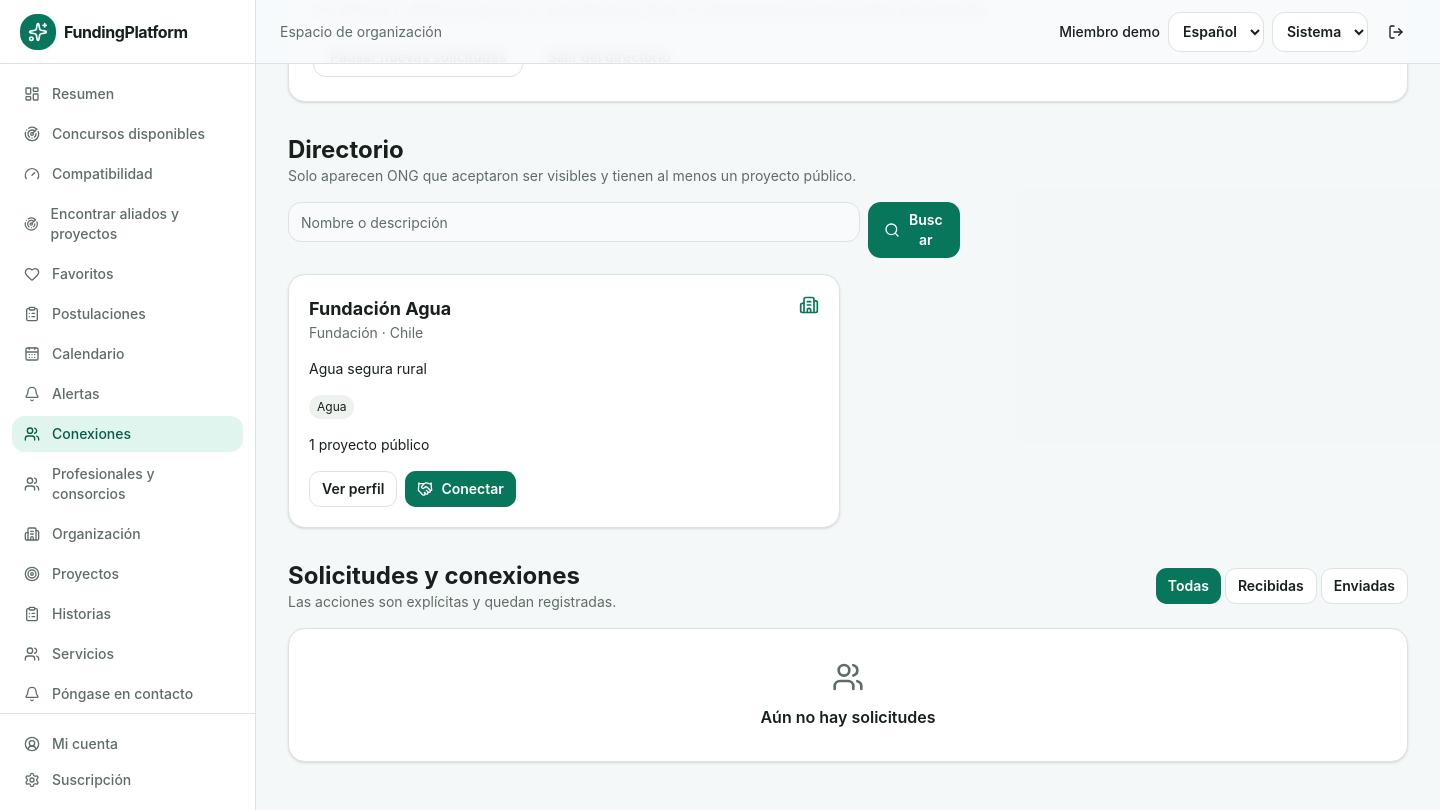
Test: networking entre organizaciones › muestra solo perfiles opt-in y permite a admin preparar una invitación sin PII
(page scrolled)
Check: the heading "Fundación Agua" is shown, box [309,295,451,323]
Click the button "Conectar" at (461, 489), box [405,471,516,507]
(page scrolled)
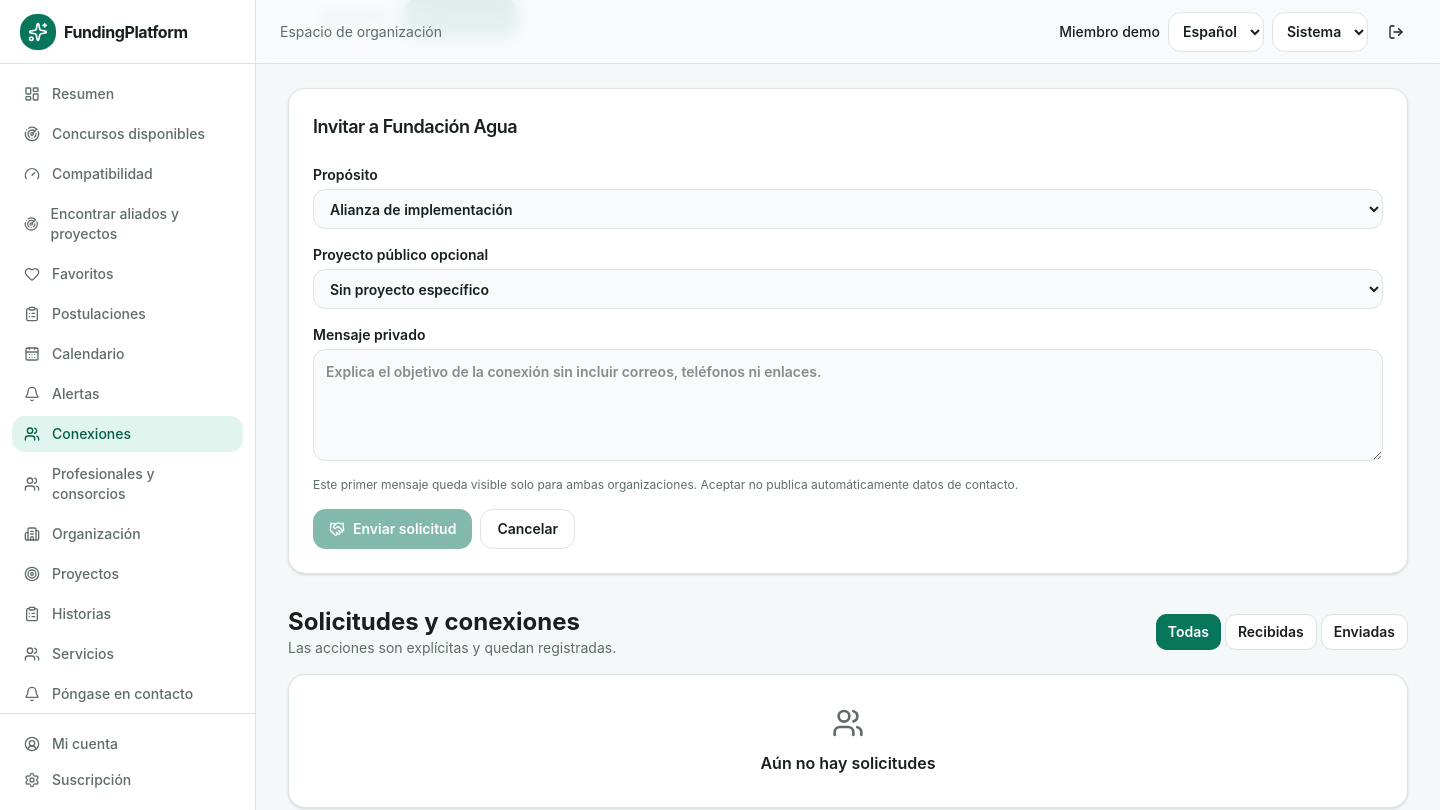
Check: the heading "Invitar a Fundación Agua" is shown, box [313,116,517,137]
Check: the text box with placeholder "sin incluir correos, teléfonos ni enlaces" is shown, box [313,349,1383,461]
